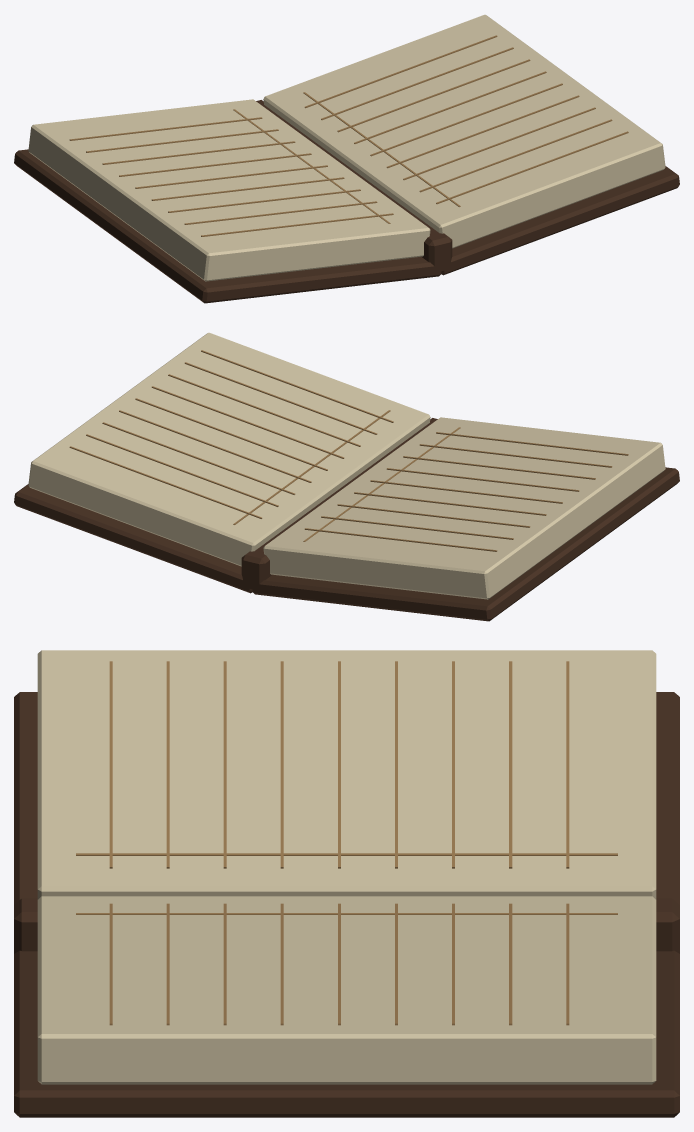
Rendered from field_workbook.glb.
3 renders of one model, top to bottom at view 1: azimuth 30°, elevation 25°; view 2: azimuth 150°, elevation 25°; view 3: azimuth 270°, elevation 25°, orthographic. The views are drawn at different scales.
Parts seen in each view (by area): view 1: field_workbook; view 2: field_workbook; view 3: field_workbook.
Boxes of the visible parts, x1,y1,x2,y2 form: field_workbook: (14,14,679,303); field_workbook: (14,332,679,621); field_workbook: (14,650,679,1117).
Size of the model in its own units: 0.5042 by 0.0738 by 0.35.
